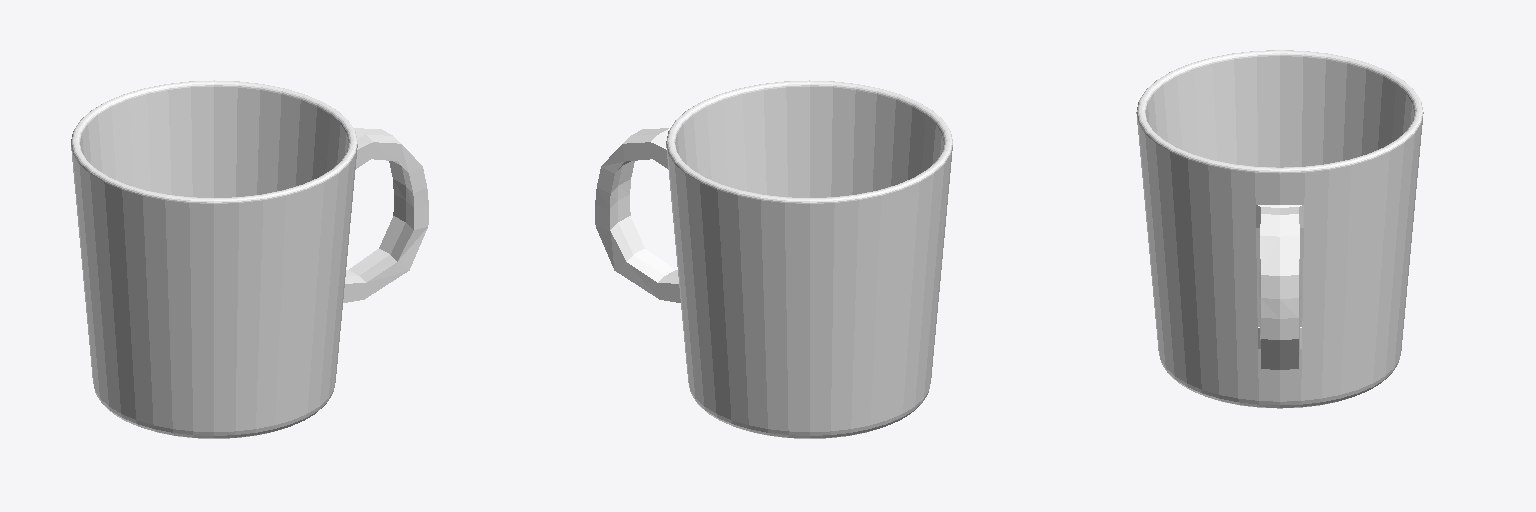
The model's file is cup_green_obj.obj.
3 views of the same model, side by side, from view 1: azimuth 30°, elevation 25°; view 2: azimuth 150°, elevation 25°; view 3: azimuth 270°, elevation 25° (orthographic).
Parts seen in each view (by area): view 1: cup_green; view 2: cup_green; view 3: cup_green.
Boxes of the visible parts, x1,y1,x2,y2 form: cup_green: [71, 80, 428, 438]; cup_green: [595, 80, 952, 438]; cup_green: [1136, 50, 1423, 408].
Bounding box in the file's own units: 12.27 × 8.9 × 9.19.